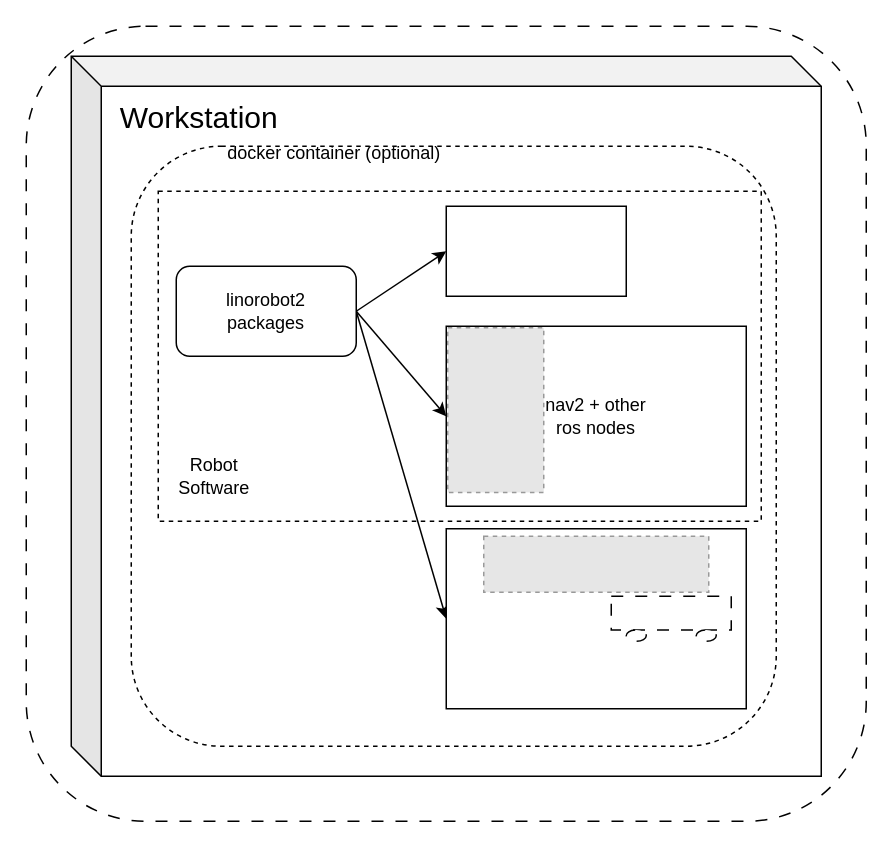
Some shapes in this 893 by 848 pixel diagram are drawn without their labels. Grey dashed boxes stand in for pictures. Here are the shapes that lost their labels. From the top down, the centre of each, then its label:
At point (535, 250): "rviz".
At point (670, 618): "simulated robot".
